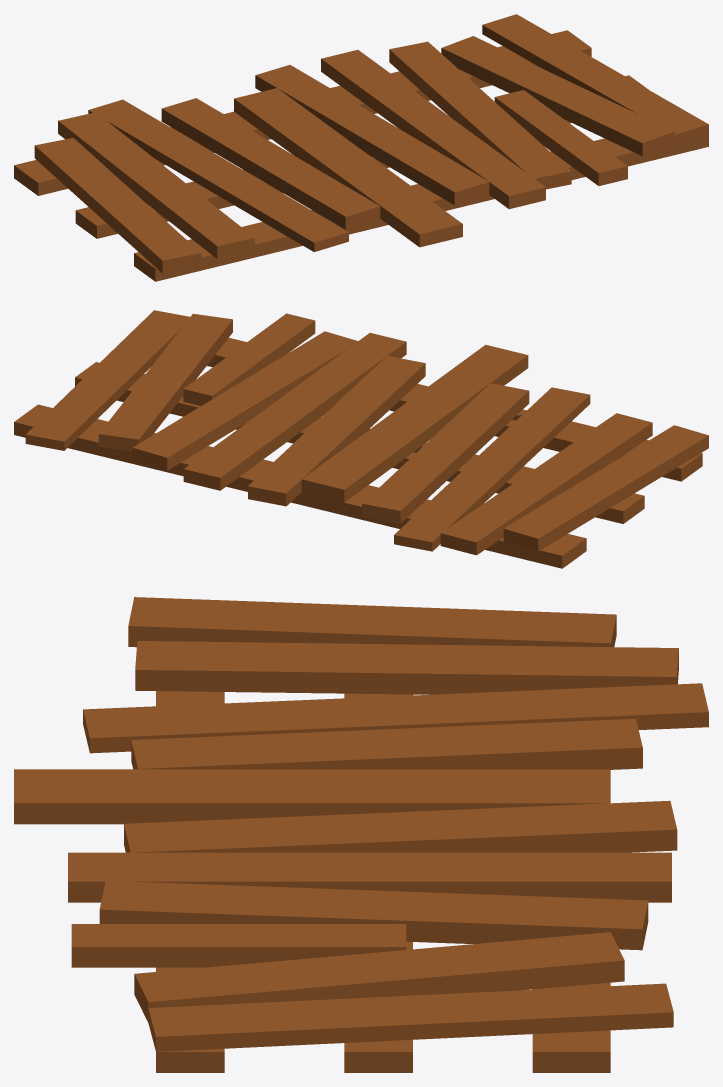
File: Prop_Walkway_Timber_Simple_01.fbx
3 views of the same model, one above another, from view 1: azimuth 30°, elevation 25°; view 2: azimuth 150°, elevation 25°; view 3: azimuth 270°, elevation 25° (orthographic). The views are drawn at different scales.
Visible parts, largest first — view 1: Prop_Walkway_Timber_Simple_01; view 2: Prop_Walkway_Timber_Simple_01; view 3: Prop_Walkway_Timber_Simple_01.
Part boxes in pixels (box(x1,y1,x2,y2)): Prop_Walkway_Timber_Simple_01: box(14, 14, 708, 281); Prop_Walkway_Timber_Simple_01: box(14, 310, 708, 568); Prop_Walkway_Timber_Simple_01: box(14, 597, 708, 1072).
Size of the model in its own units: 107 by 4.83 by 72.54.
